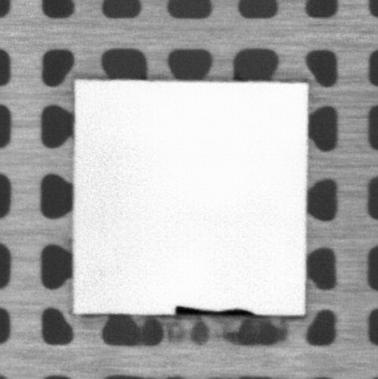DIE_BROKEN: (172, 303, 258, 317)
